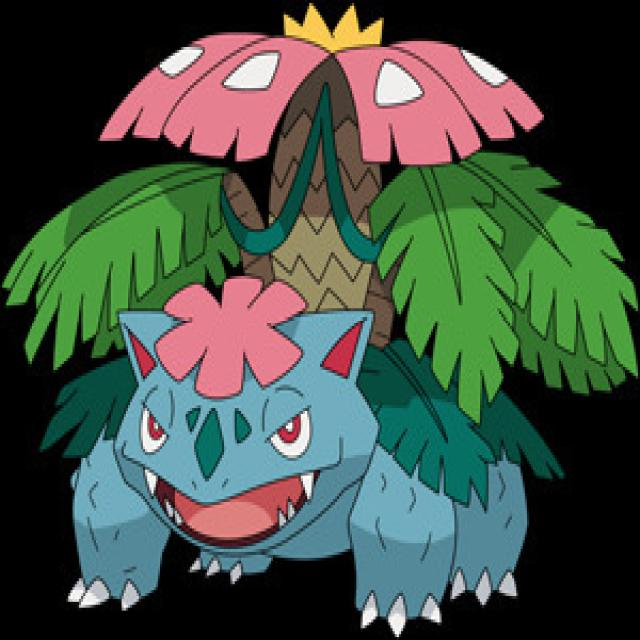Venusaur: (95, 0, 537, 617)
